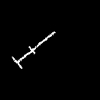double_crochet: (13, 32, 54, 68)
